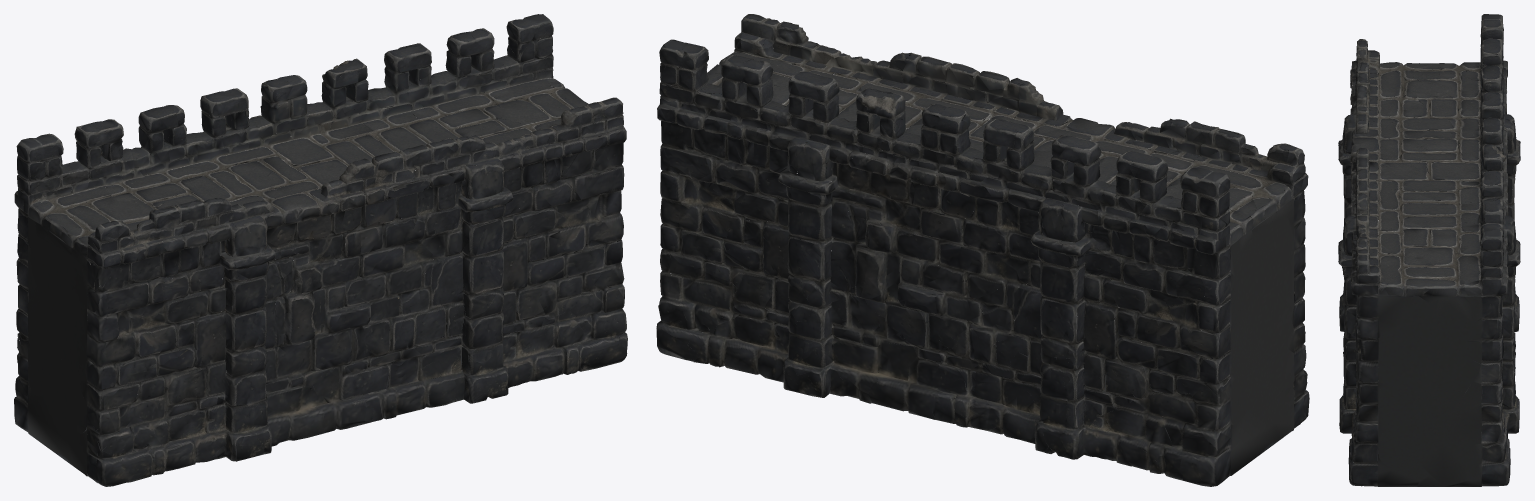
Rendered from M07_CityWall.fbx.
3 renders of one model, left to right at view 1: azimuth 30°, elevation 25°; view 2: azimuth 150°, elevation 25°; view 3: azimuth 270°, elevation 25°, orthographic. The views are drawn at different scales.
Parts seen in each view (by area): view 1: M07_CityWall.029; view 2: M07_CityWall.029; view 3: M07_CityWall.029.
Part boxes in pixels (x1=…): M07_CityWall.029: x1=14, y1=14, x2=627, y2=486; M07_CityWall.029: x1=656, y1=14, x2=1309, y2=486; M07_CityWall.029: x1=1338, y1=14, x2=1520, y2=486.
Bounding box in the file's own units: 15.47 × 8 × 5.28.
Materials: 1 (1 with a texture image).
